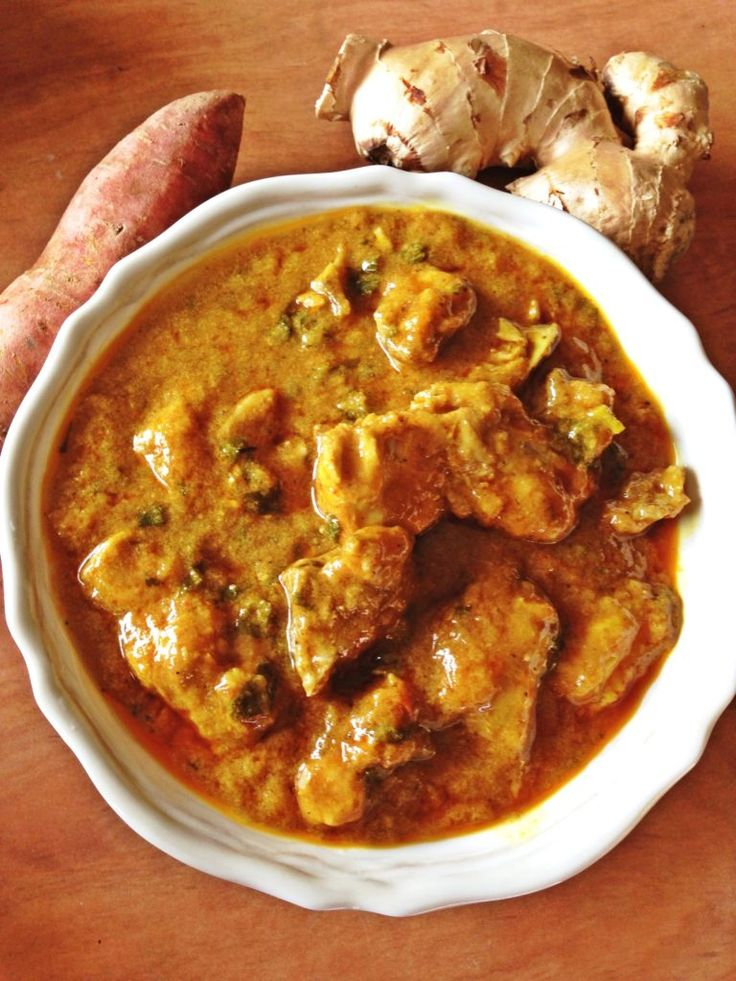chicken_curry: (145, 279, 683, 814)
